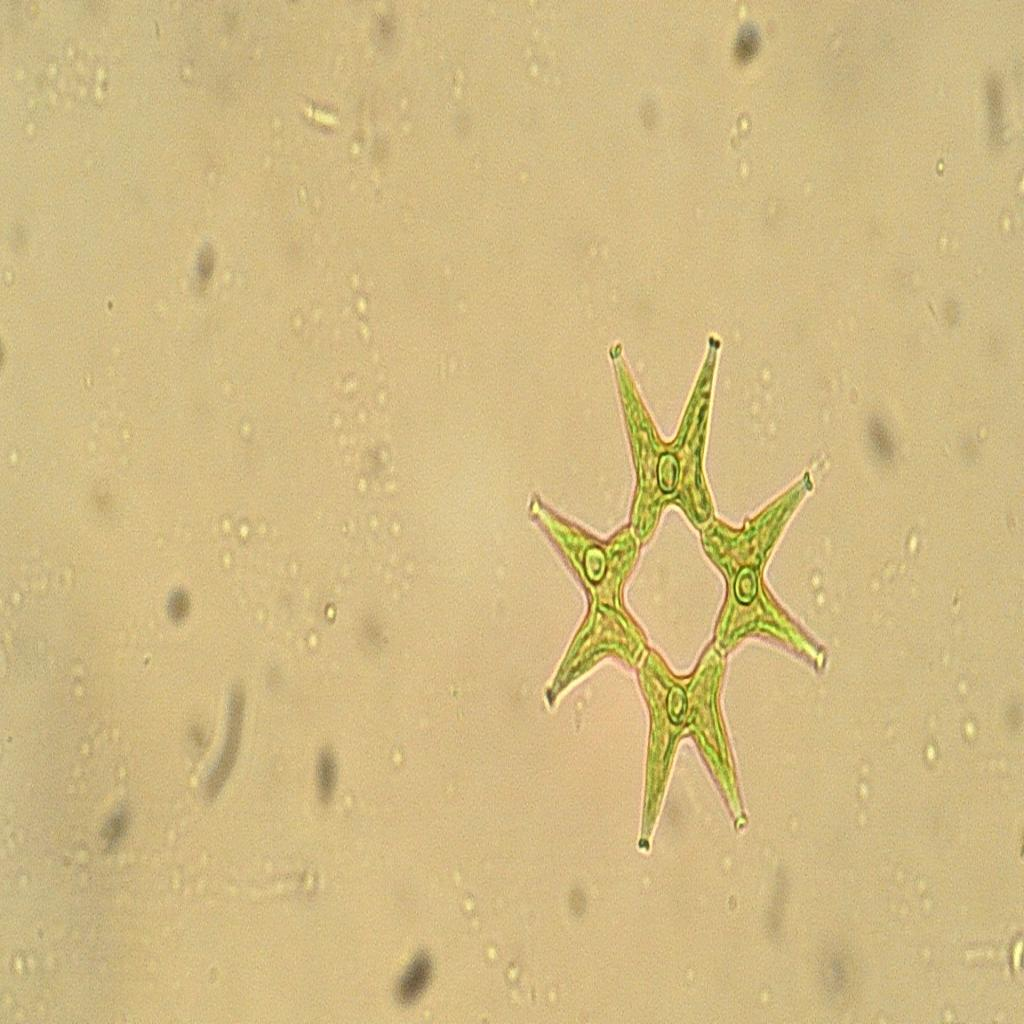Pediastrum_CO: (521, 308, 837, 895)
